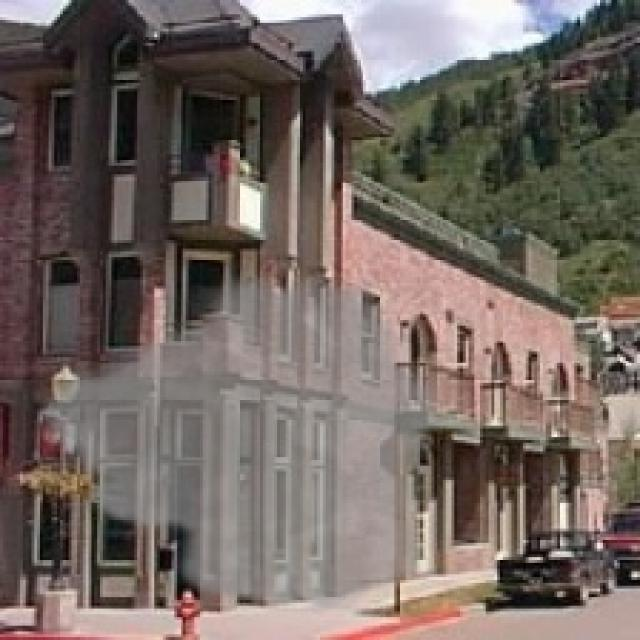Smoke: (28, 262, 443, 618)
